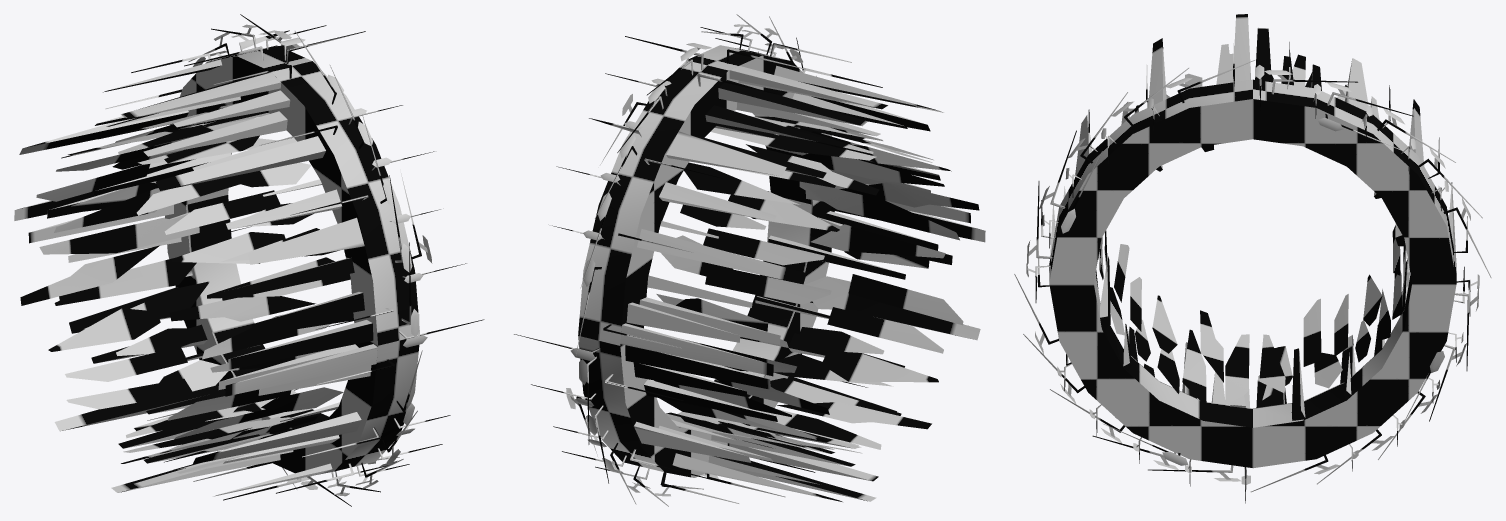
The model's file is galaxygate_hades.obj.
The picture shows the model from 3 angles, left to right: view 1: azimuth 30°, elevation 25°; view 2: azimuth 150°, elevation 25°; view 3: azimuth 270°, elevation 25°; orthographic projection. The views are drawn at different scales.
Parts seen in each view (by area): view 1: galaxygate_hades; view 2: galaxygate_hades; view 3: galaxygate_hades.
Boxes of the visible parts, x1,y1,x2,y2 form: galaxygate_hades: [14, 14, 484, 506]; galaxygate_hades: [514, 14, 985, 506]; galaxygate_hades: [1014, 14, 1491, 503].
Bounding box in the file's own units: 316 × 505 × 505.
Materials: 1 (1 with a texture image).
